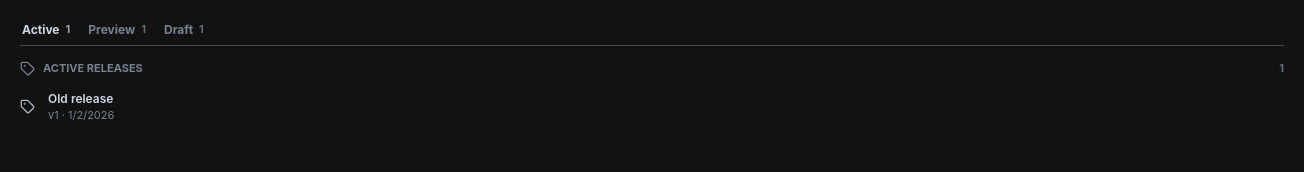
Test: shows sorted published releases, switches drafts and selects with the existing theme: light
This screenshot has width=1304, height=172.
Step 1. Click the tab "Preview 1" → click(117, 29), box [86, 12, 148, 46]
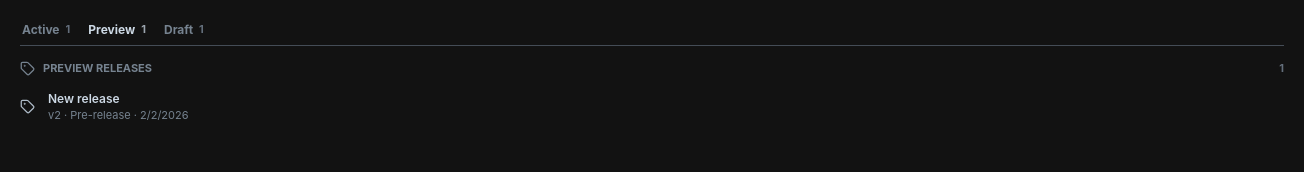
Result: the text "Pre-release" is shown at [61, 108, 131, 122]
Step 2. Click the tab "Draft 1" → click(184, 29), box [162, 12, 206, 46]
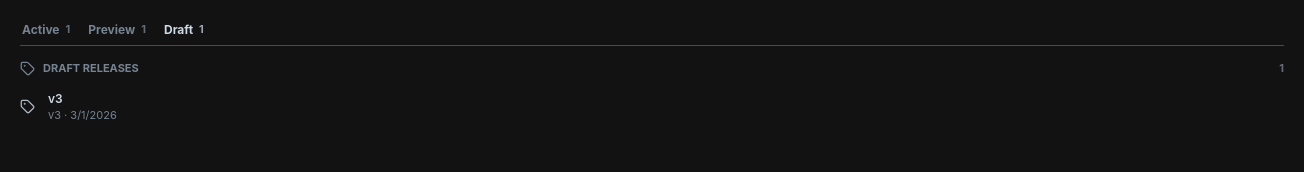
Result: the tab "Draft 1" is selected at [162, 12, 206, 46]
Step 3. Click the button with class "focus-row" → click(94, 115), box [12, 85, 1292, 128]
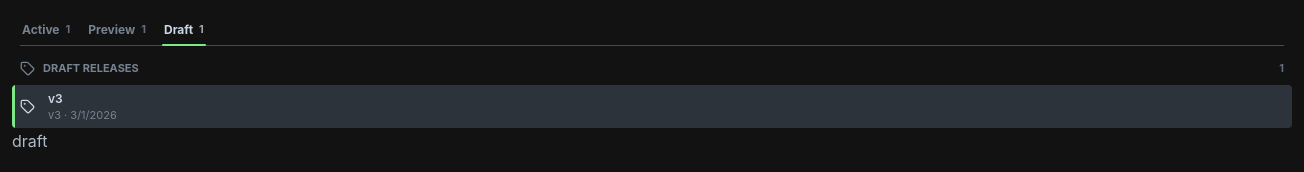
Result: the text "draft" is shown at [12, 131, 47, 151]
